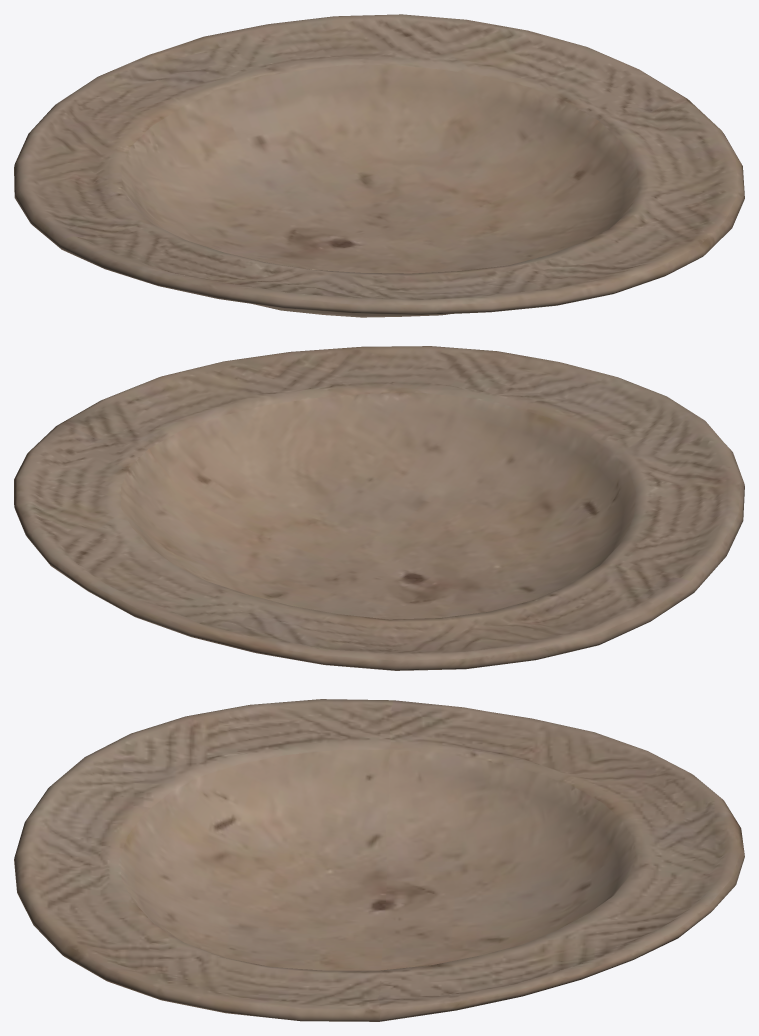
File: bowl.glb
The picture shows the model from 3 angles, top to bottom: view 1: azimuth 30°, elevation 25°; view 2: azimuth 150°, elevation 25°; view 3: azimuth 270°, elevation 25°; orthographic projection. The views are drawn at different scales.
Parts seen in each view (by area): view 1: carved_wooden_plate; view 2: carved_wooden_plate; view 3: carved_wooden_plate.
Part boxes in pixels (x1,y1,x2,y2): carved_wooden_plate: (14, 14, 744, 317); carved_wooden_plate: (14, 346, 744, 670); carved_wooden_plate: (14, 699, 744, 1021).
Size of the model in its own units: 0.2718 by 0.0381 by 0.2688.
Materials: 1 (1 with a texture image).
